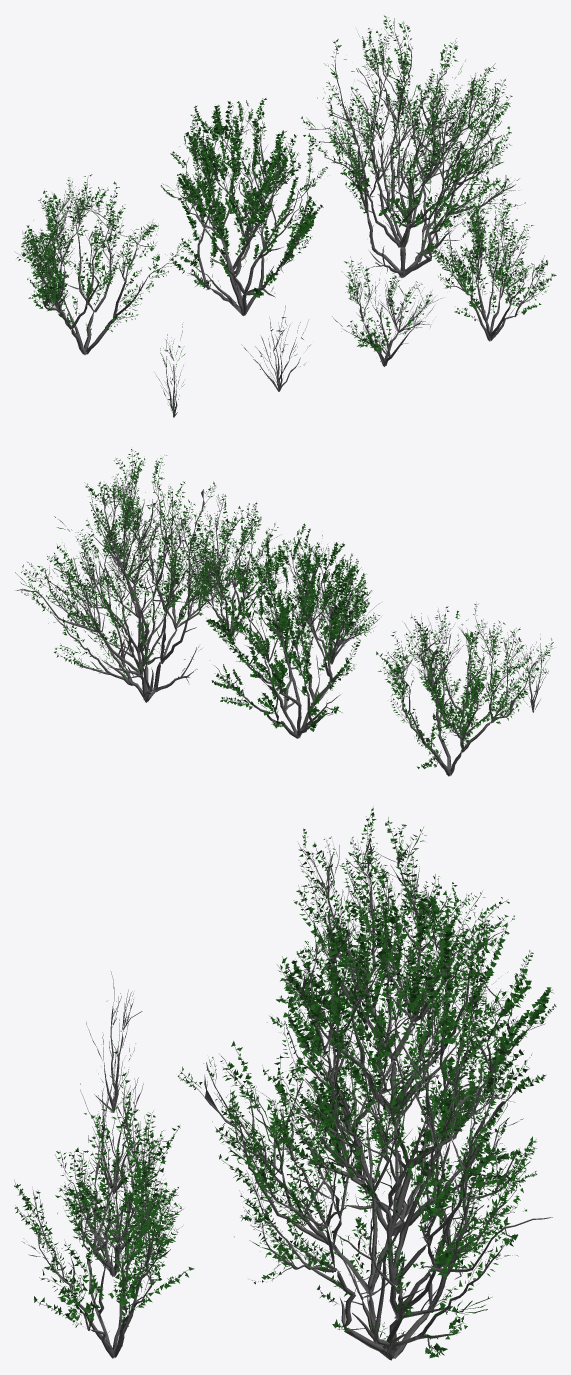
The model's file is searsia_tree_realistic.obj.
3 views of the same model, one above another, from view 1: azimuth 30°, elevation 25°; view 2: azimuth 150°, elevation 25°; view 3: azimuth 270°, elevation 25° (orthographic). The views are drawn at different scales.
Parts seen in each view (by area): view 1: part_2__searsia_lucida_leaves, part_1__searsia_lucida, part_3__searsia_lucida_twigs; view 2: part_2__searsia_lucida_leaves, part_1__searsia_lucida, part_3__searsia_lucida_twigs; view 3: part_2__searsia_lucida_leaves, part_1__searsia_lucida, part_3__searsia_lucida_twigs.
Boxes of the visible parts, left/top/right/bottom form: part_2__searsia_lucida_leaves: left=16, top=15, right=556, bottom=400; part_1__searsia_lucida: left=14, top=18, right=553, bottom=417; part_3__searsia_lucida_twigs: left=28, top=18, right=539, bottom=410; part_2__searsia_lucida_leaves: left=21, top=449, right=553, bottom=768; part_1__searsia_lucida: left=15, top=450, right=552, bottom=776; part_3__searsia_lucida_twigs: left=15, top=468, right=544, bottom=762; part_2__searsia_lucida_leaves: left=14, top=808, right=556, bottom=1358; part_1__searsia_lucida: left=14, top=806, right=553, bottom=1360; part_3__searsia_lucida_twigs: left=22, top=838, right=531, bottom=1347.
Size of the model in its own units: 4.77 by 2.34 by 2.82.
